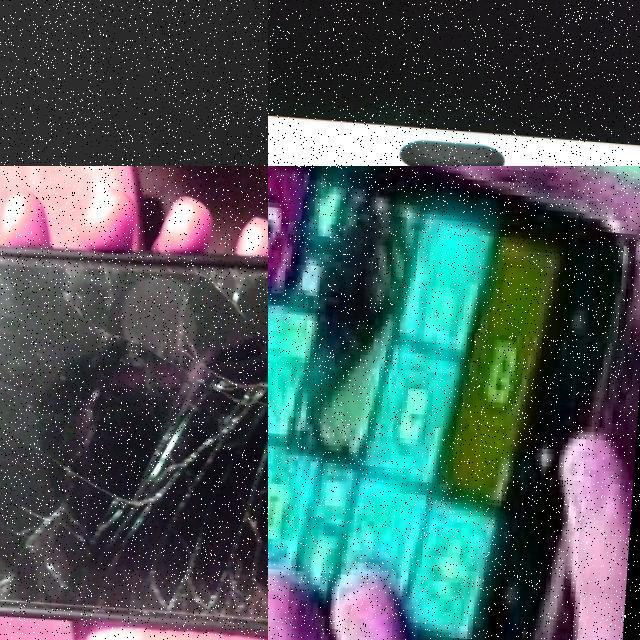screen crack: (0, 227, 268, 640)
